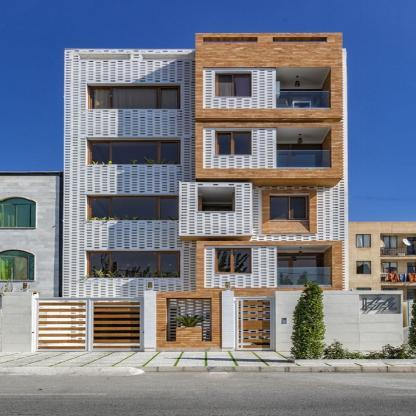Balcony: (278, 268, 332, 287), (276, 91, 331, 109), (277, 151, 331, 168)
Building Outline: (1, 32, 403, 352)
Door: (32, 298, 144, 352), (234, 297, 276, 352), (277, 253, 291, 285), (277, 144, 291, 168), (276, 89, 290, 108)
Facade: (64, 48, 348, 352)
Floor: (64, 178, 348, 237), (64, 118, 348, 174), (64, 241, 348, 291)
Floor Slab: (64, 174, 348, 178), (64, 237, 348, 241), (64, 291, 348, 295), (65, 114, 348, 118)
Ground Floor: (2, 295, 404, 352)
Top Floor: (64, 48, 348, 114)
Window: (87, 251, 180, 278), (88, 140, 180, 165), (88, 196, 179, 220), (88, 86, 180, 109), (291, 253, 324, 285), (269, 196, 308, 220), (215, 248, 252, 273), (198, 187, 235, 211), (216, 74, 252, 98), (216, 132, 252, 155), (291, 144, 322, 168), (290, 89, 322, 108), (273, 42, 327, 43), (204, 42, 258, 43)
Window Hole: (85, 250, 180, 278), (86, 138, 180, 165), (87, 195, 180, 221), (88, 83, 180, 109), (277, 246, 332, 288), (276, 67, 331, 109), (277, 128, 331, 169), (273, 37, 327, 42), (204, 37, 258, 42), (143, 55, 195, 59), (80, 55, 130, 59)
